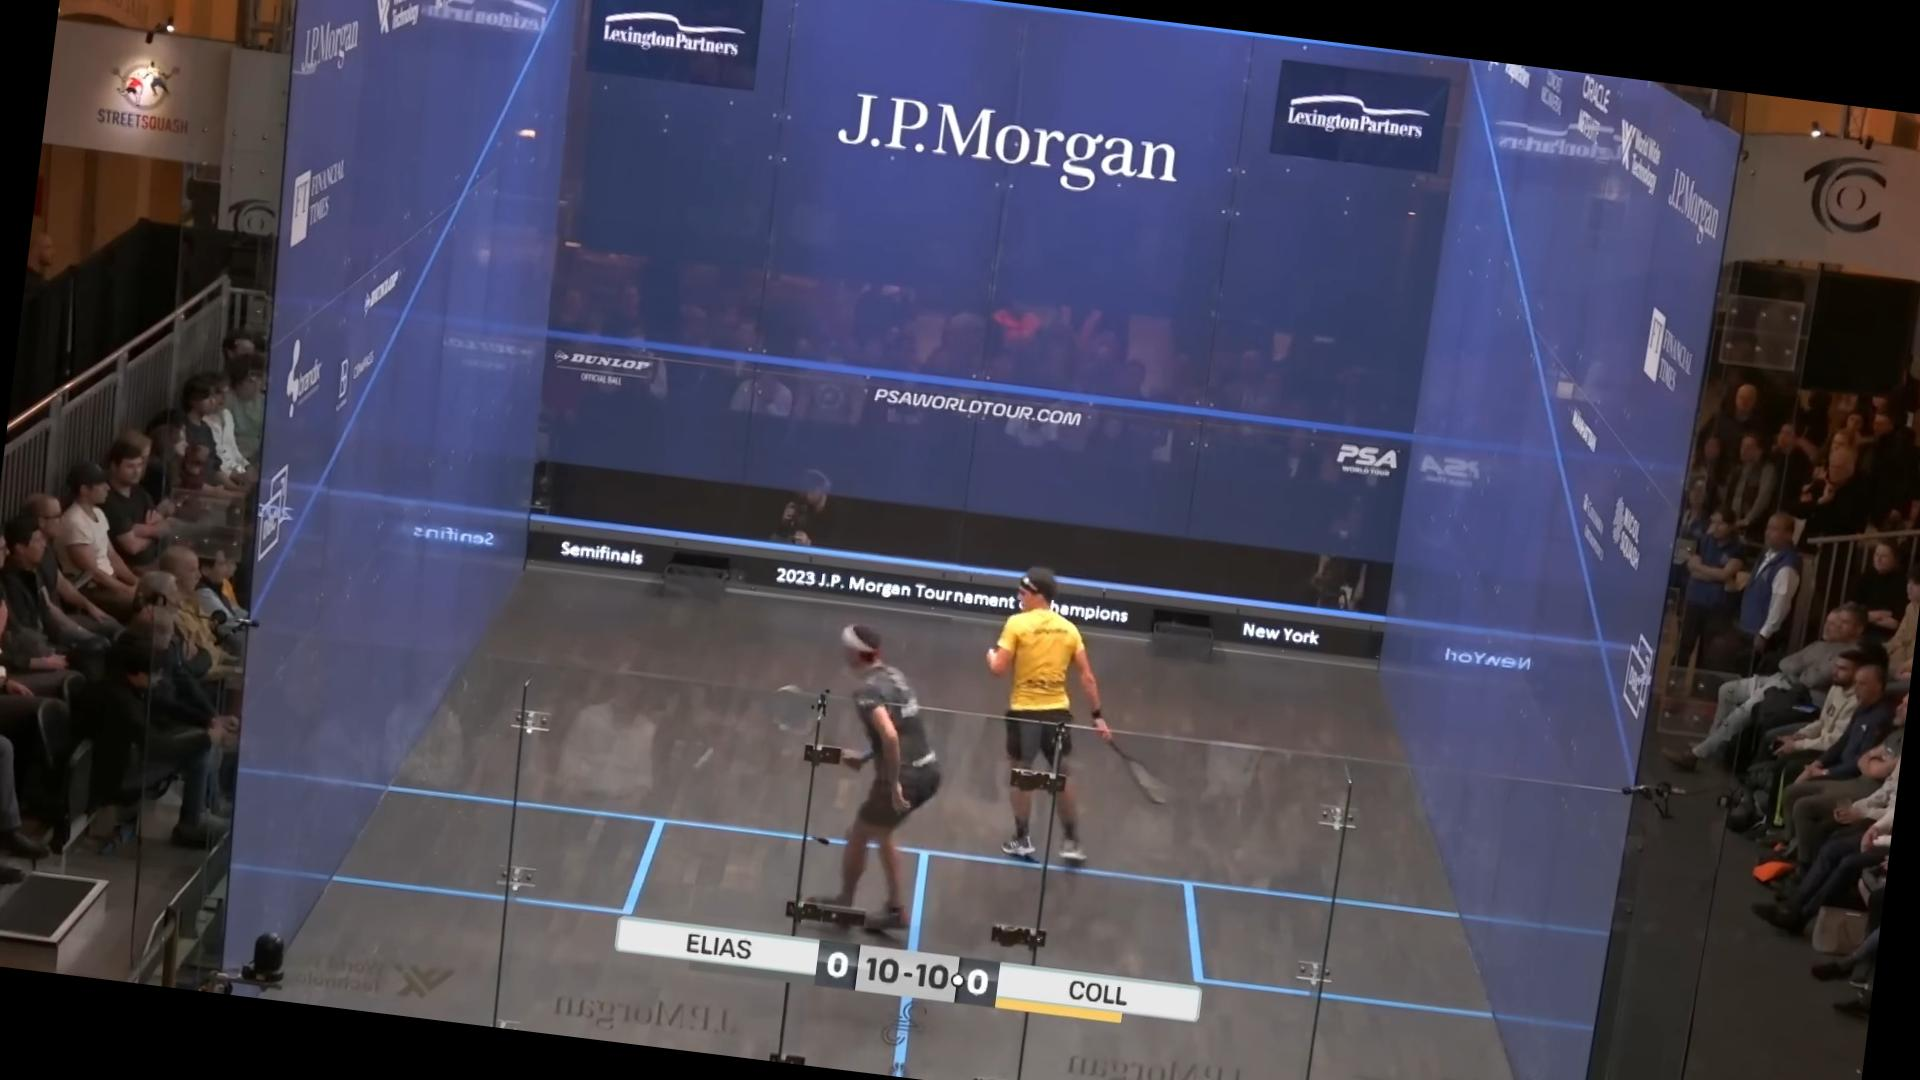Racket: (1093, 737, 1184, 819), (757, 673, 835, 761)
